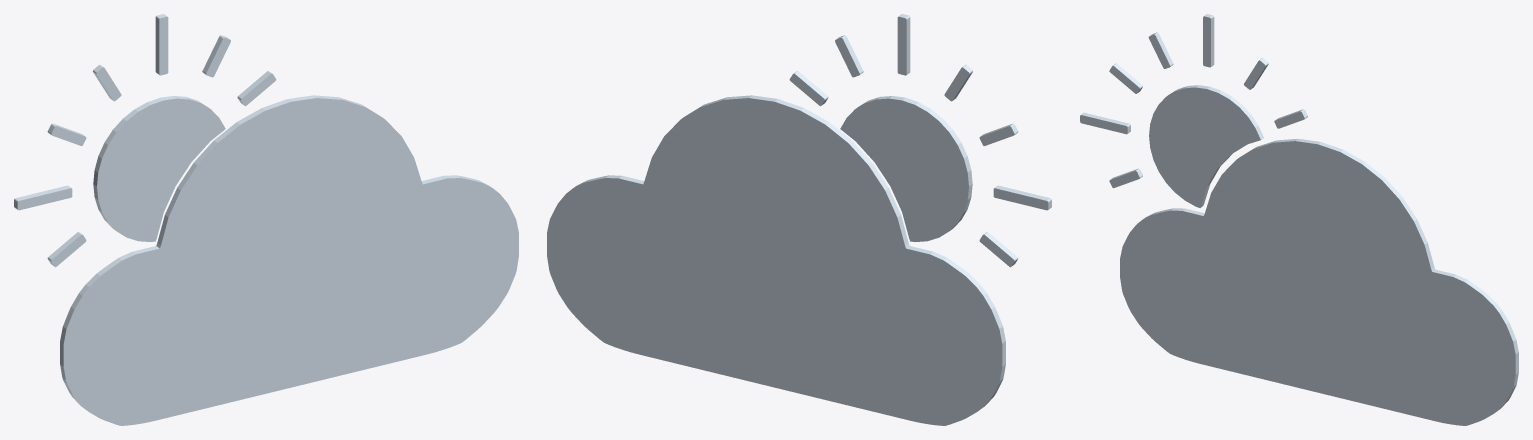
File: Cloud_Sun_3D_Icon.fbx
3 renders of one model, left to right at view 1: azimuth 30°, elevation 25°; view 2: azimuth 150°, elevation 25°; view 3: azimuth 330°, elevation 25°, orthographic. The views are drawn at different scales.
Visible parts, largest first — view 1: Cloud_Sun_3D_Icon; view 2: Cloud_Sun_3D_Icon; view 3: Cloud_Sun_3D_Icon.
Part boxes in pixels (box(x1,y1,x2,y2)): Cloud_Sun_3D_Icon: box(14, 14, 518, 425); Cloud_Sun_3D_Icon: box(547, 14, 1051, 425); Cloud_Sun_3D_Icon: box(1080, 14, 1518, 425).
Bounding box in the file's own units: 157 × 120 × 2.
